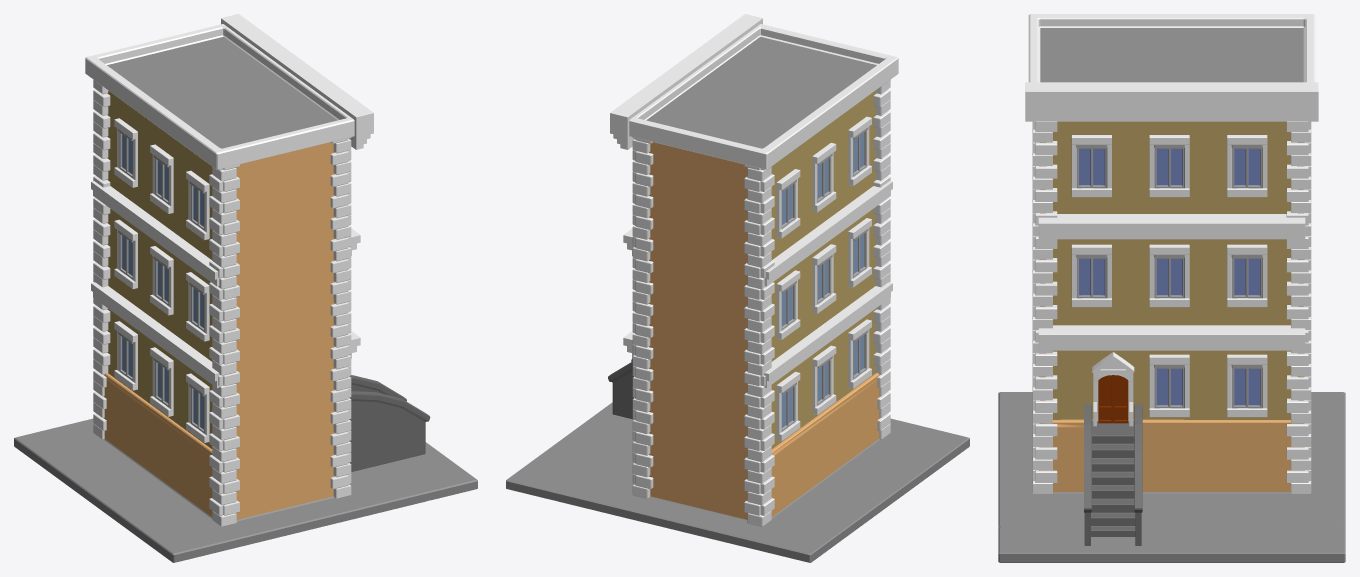
The model's file is Building.fbx.
3 views of the same model, side by side, from view 1: azimuth 30°, elevation 25°; view 2: azimuth 150°, elevation 25°; view 3: azimuth 270°, elevation 25° (orthographic). The views are drawn at different scales.
Visible parts, largest first — view 1: ApartmentBlock; view 2: ApartmentBlock; view 3: ApartmentBlock.
Boxes of the visible parts, <box> form: ApartmentBlock: <box>14,14,477,562</box>; ApartmentBlock: <box>506,14,969,562</box>; ApartmentBlock: <box>998,14,1345,562</box>.
Bounding box in the file's own units: 440 × 537 × 400.
